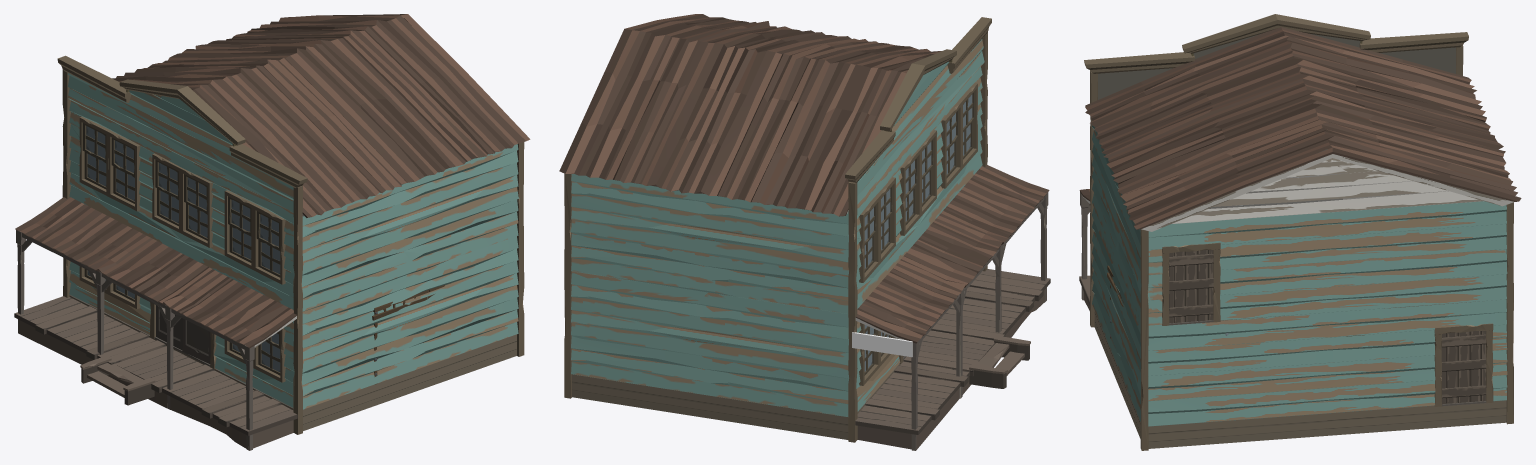
Rendered from Trading_post.glb.
3 renders of one model, left to right at view 1: azimuth 30°, elevation 25°; view 2: azimuth 150°, elevation 25°; view 3: azimuth 270°, elevation 25°, orthographic. The views are drawn at different scales.
Parts seen in each view (by area): view 1: Trading_post, SM_Bld_Double_Roof_01, SM_Bld_Double_Front_02, SM_Bld_Double_DeckCover_02, SM_Bld_Double_Deck_04, SM_Bld_Double_Facade_04, SM_Bld_Double_Front_01, SM_Bld_Double_Front_Window_02, SM_Bld_DeckSteps_01__9_, Door_1, SM_Bld_Double_Front_Window_01, Door_2 (+1 smaller); view 2: Trading_post, SM_Bld_Double_Roof_01, SM_Bld_Double_DeckCover_02, SM_Bld_Double_Deck_04, SM_Bld_Double_Front_02, SM_Bld_Double_Facade_04, SM_Bld_DeckSteps_01__9_, SM_Bld_Double_Front_Window_02, SM_Bld_Double_Front_01, SM_Bld_Sign_06; view 3: Trading_post, SM_Bld_Double_Roof_01, SM_Bld_Double_Facade_04, SM_Bld_Large_BackDoor_01, SM_Bld_Large_BackDoor_02, SM_Bld_Double_DeckCover_02.
Part boxes in pixels (x1=…): Trading_post: x1=62, y1=69, x2=524, y2=434; SM_Bld_Double_Roof_01: x1=112, y1=14, x2=530, y2=217; SM_Bld_Double_Front_02: x1=69, y1=100, x2=294, y2=309; SM_Bld_Double_DeckCover_02: x1=15, y1=197, x2=296, y2=450; SM_Bld_Double_Deck_04: x1=14, y1=296, x2=297, y2=449; SM_Bld_Double_Facade_04: x1=57, y1=55, x2=307, y2=212; SM_Bld_Double_Front_01: x1=69, y1=262, x2=294, y2=407; SM_Bld_Double_Front_Window_02: x1=86, y1=126, x2=280, y2=274; SM_Bld_DeckSteps_01__9_: x1=80, y1=355, x2=155, y2=405; Door_1: x1=182, y1=318, x2=210, y2=363; SM_Bld_Double_Front_Window_01: x1=87, y1=270, x2=280, y2=371; Door_2: x1=156, y1=305, x2=182, y2=349; Trading_post: x1=564, y1=32, x2=987, y2=442; SM_Bld_Double_Roof_01: x1=559, y1=14, x2=941, y2=216; SM_Bld_Double_DeckCover_02: x1=855, y1=165, x2=1049, y2=450; SM_Bld_Double_Deck_04: x1=855, y1=269, x2=1050, y2=449; SM_Bld_Double_Front_02: x1=856, y1=67, x2=982, y2=308; SM_Bld_Double_Facade_04: x1=845, y1=17, x2=991, y2=206; SM_Bld_DeckSteps_01__9_: x1=969, y1=335, x2=1030, y2=388; SM_Bld_Double_Front_Window_02: x1=864, y1=94, x2=972, y2=268; SM_Bld_Double_Front_01: x1=856, y1=321, x2=906, y2=411; SM_Bld_Sign_06: x1=852, y1=332, x2=912, y2=357; Trading_post: x1=1090, y1=45, x2=1513, y2=450; SM_Bld_Double_Roof_01: x1=1085, y1=27, x2=1521, y2=231; SM_Bld_Double_Facade_04: x1=1084, y1=14, x2=1468, y2=99; SM_Bld_Large_BackDoor_01: x1=1168, y1=249, x2=1213, y2=323; SM_Bld_Large_BackDoor_02: x1=1441, y1=331, x2=1486, y2=404; SM_Bld_Double_DeckCover_02: x1=1079, y1=189, x2=1090, y2=300.
Size of the model in its own units: 11.94 by 8.8 by 11.93.
8 materials, 6 textured.
